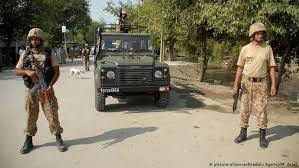uniform: (18, 46, 66, 141), (241, 39, 271, 142), (29, 64, 53, 109), (230, 69, 246, 119)
